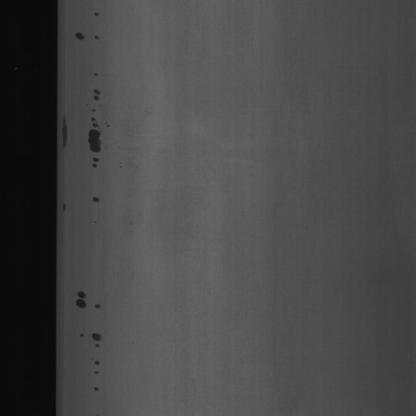oil_spot: (69, 274, 108, 370), (82, 74, 105, 209), (67, 16, 90, 46), (59, 115, 70, 158), (92, 2, 100, 45), (59, 193, 69, 215)
